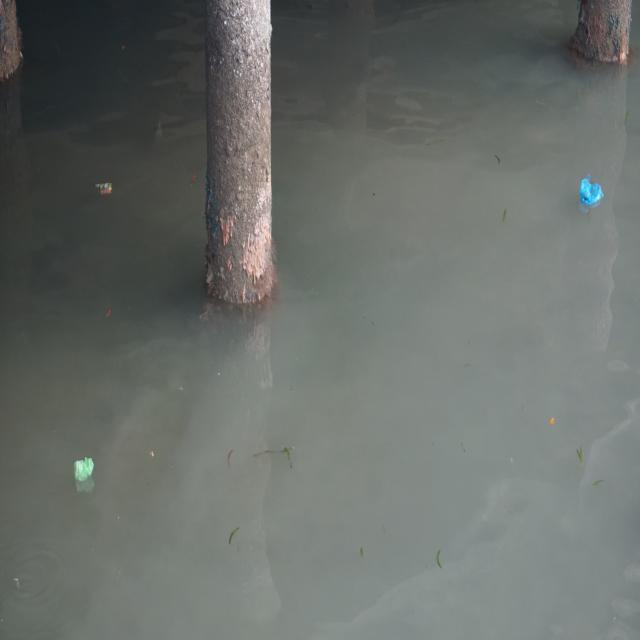Bungkus Makanan: (95, 178, 114, 198)
Kantong Plastik: (578, 169, 608, 215), (72, 454, 100, 490)
